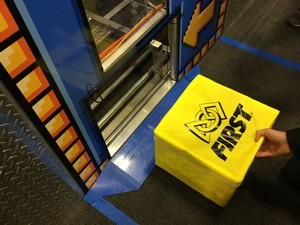cube: (152, 74, 281, 210)
